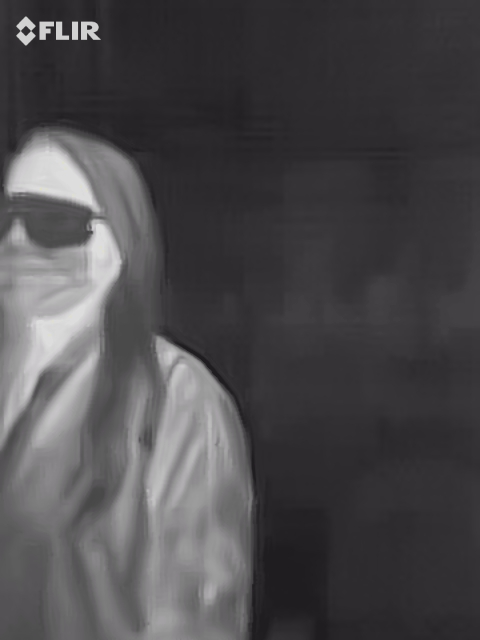head: (1, 125, 160, 321)
